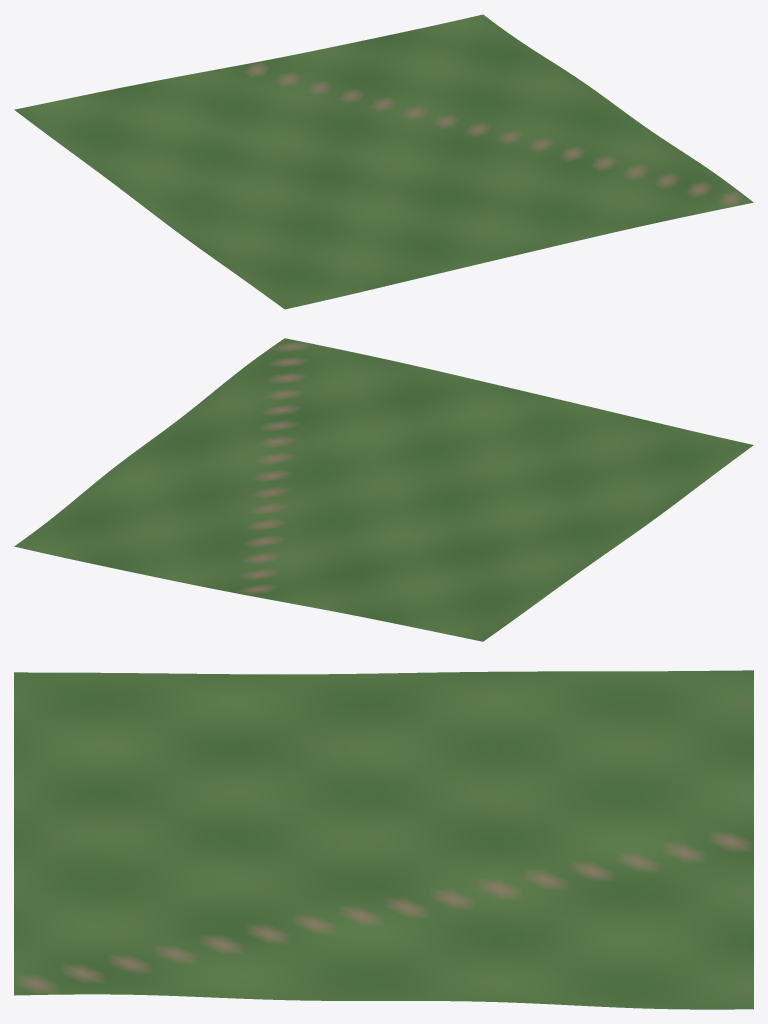
Rendered from chunk_9_8.glb.
The picture shows the model from 3 angles, top to bottom: view 1: azimuth 30°, elevation 25°; view 2: azimuth 150°, elevation 25°; view 3: azimuth 270°, elevation 25°; orthographic projection. The views are drawn at different scales.
Size of the model in its own units: 512 by 20.23 by 512.
